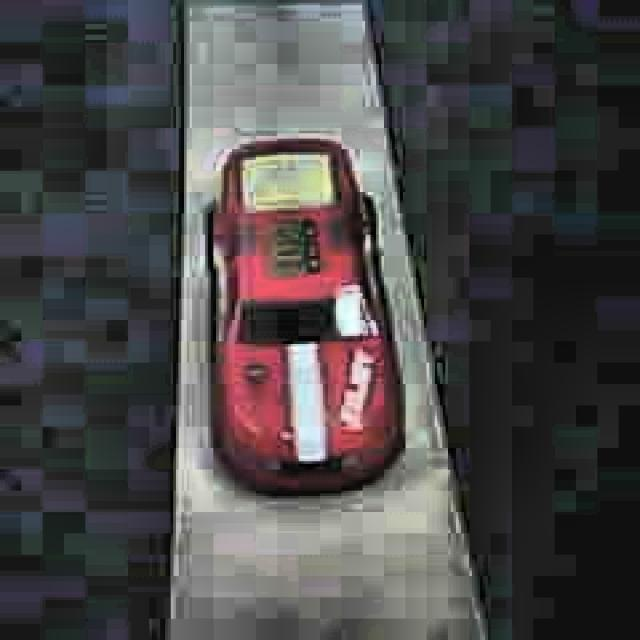car: (201, 132, 408, 502)
